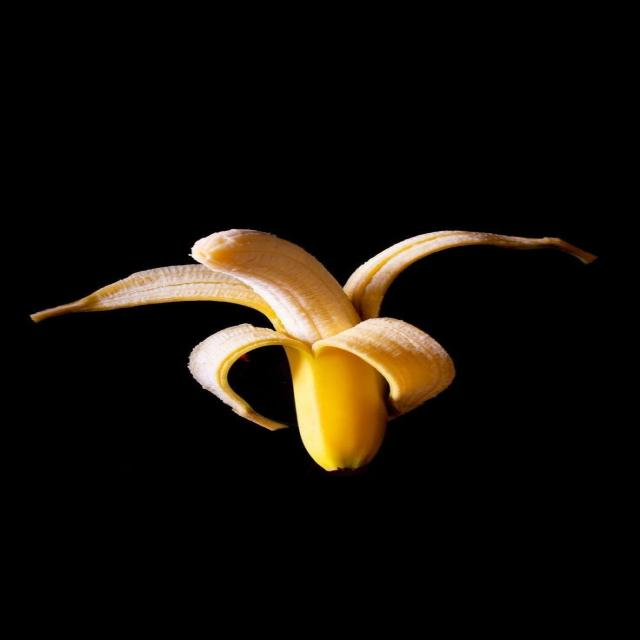banana: (32, 230, 594, 470), (345, 231, 595, 319), (192, 230, 359, 344), (31, 265, 281, 328), (189, 324, 310, 430)
